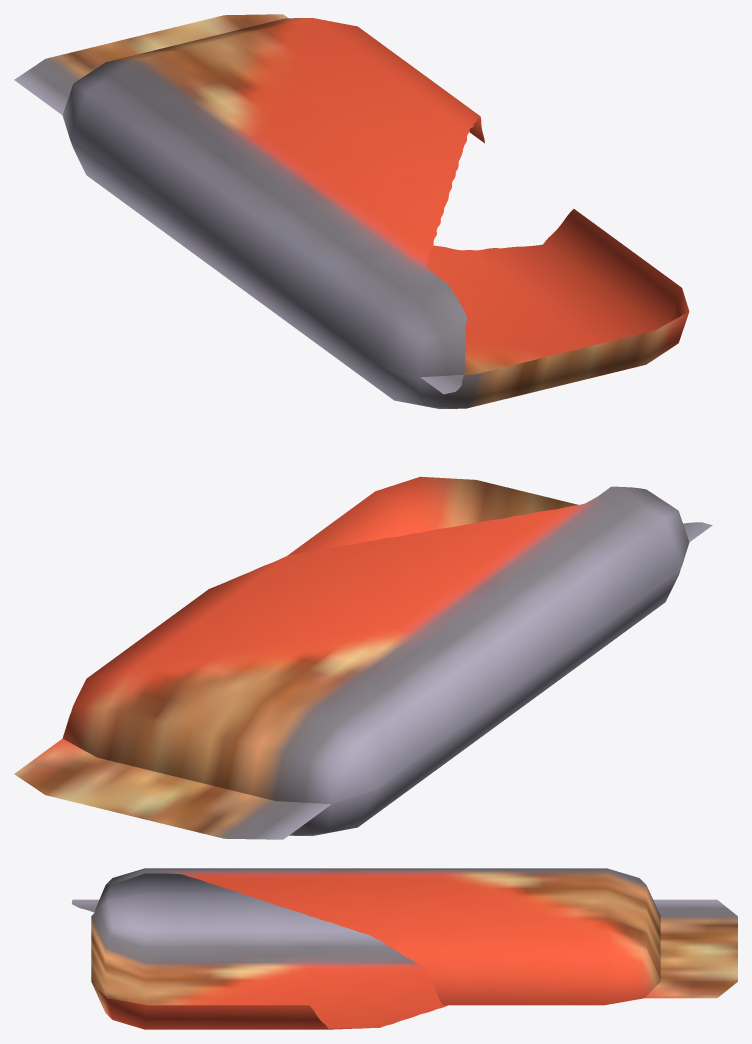
Rendered from Candy Water.fbx.
3 renders of one model, top to bottom at view 1: azimuth 30°, elevation 25°; view 2: azimuth 150°, elevation 25°; view 3: azimuth 270°, elevation 25°, orthographic. The views are drawn at different scales.
Visible parts, largest first — view 1: Candy Water; view 2: Candy Water; view 3: Candy Water.
Boxes of the visible parts, bbox=[...] form: Candy Water: bbox=[14, 14, 689, 408]; Candy Water: bbox=[14, 476, 712, 839]; Candy Water: bbox=[71, 868, 737, 1029].
Size of the model in its own units: 9.43 by 3.59 by 25.69.
